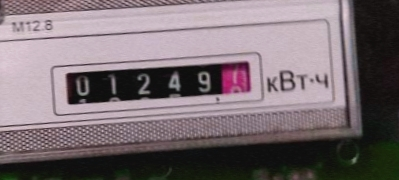0: (72, 71, 92, 98)
1: (104, 72, 120, 98)
2: (134, 71, 155, 98)
4: (166, 67, 185, 95)
7: (227, 62, 243, 87)
9: (195, 69, 214, 94)
screen: (43, 45, 279, 132)
